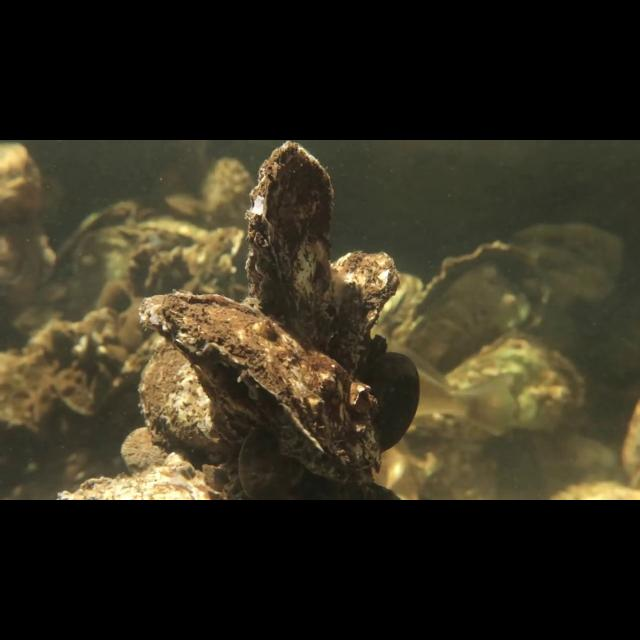Oyster-Closed: (136, 285, 385, 478), (242, 141, 349, 360), (416, 325, 595, 443), (131, 344, 275, 464), (334, 243, 404, 377)
